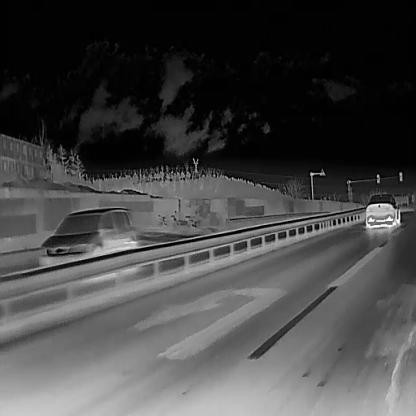car: (37, 206, 139, 270), (364, 192, 401, 228)
